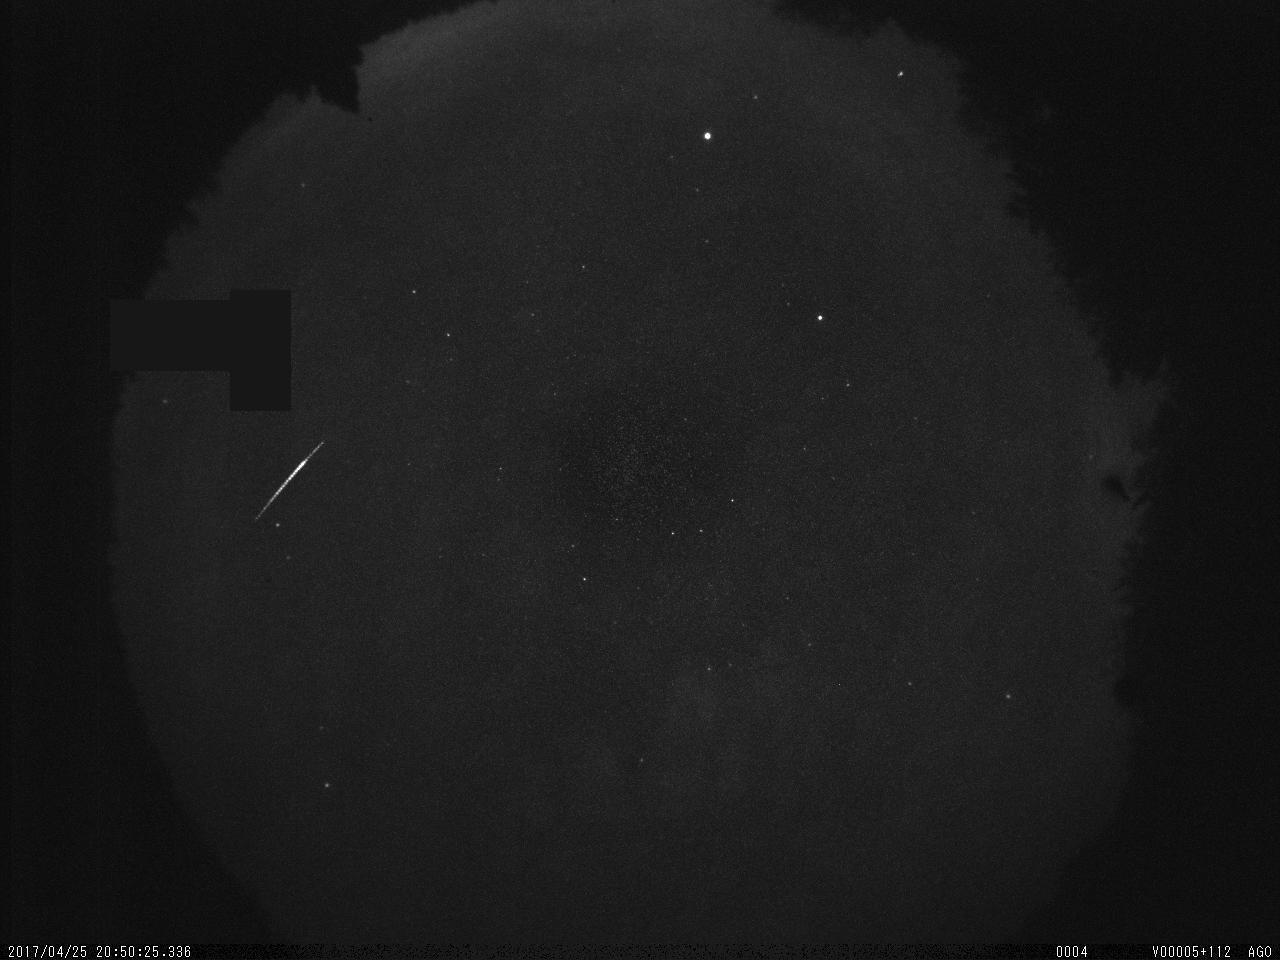meteor: (244, 422, 352, 535)
